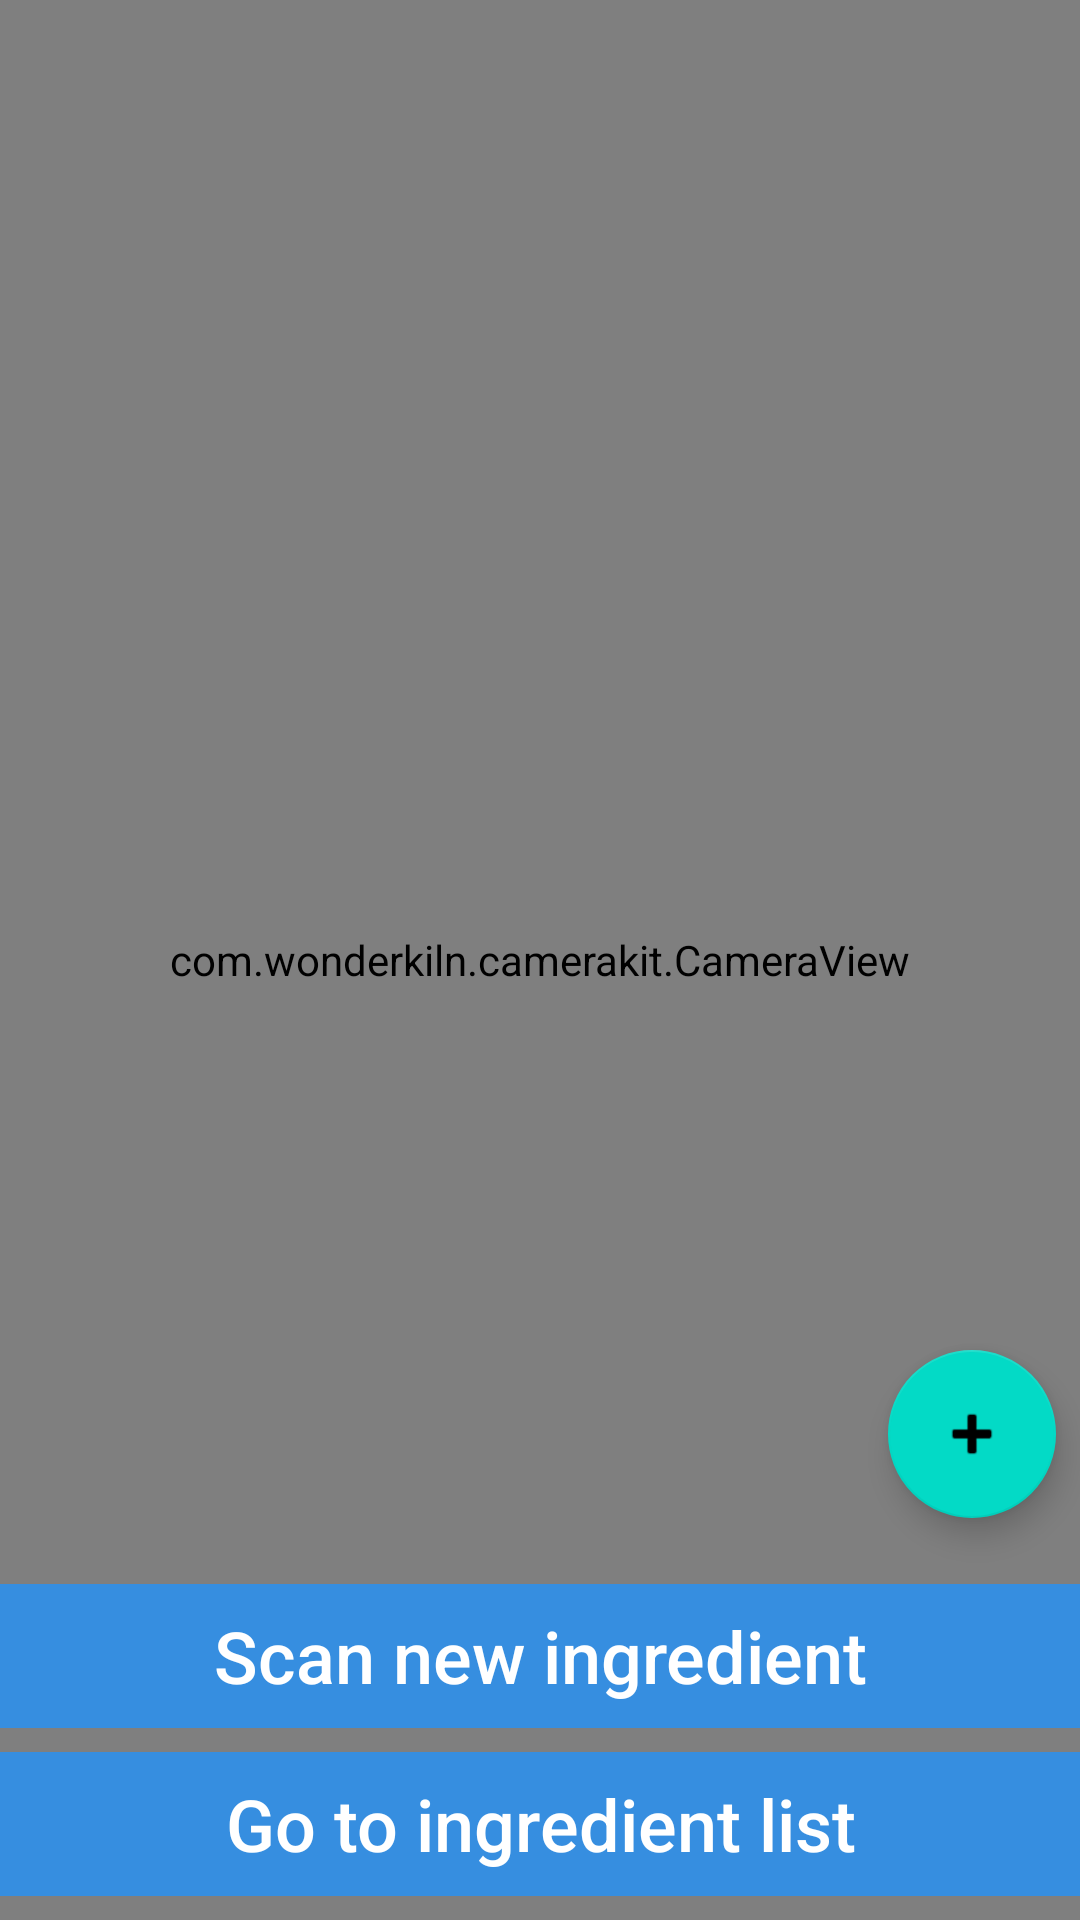

Locate icon controls on the screen. Image size 1080px x 1920px, boxes as box(x1, y1, x2, y2).
add: box(888, 1350, 1056, 1518)
